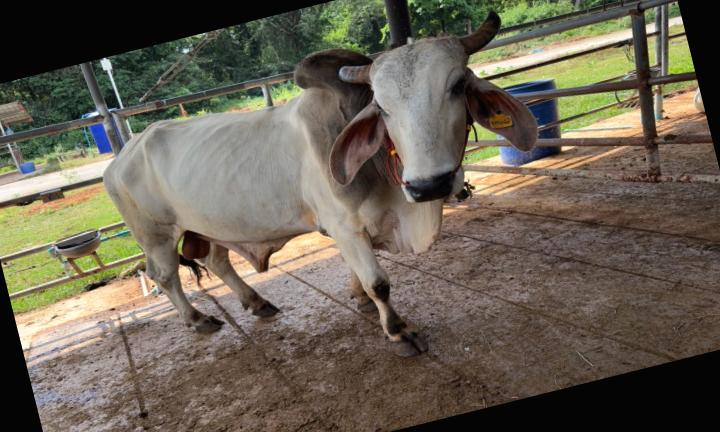Brahman: (104, 12, 537, 355)
